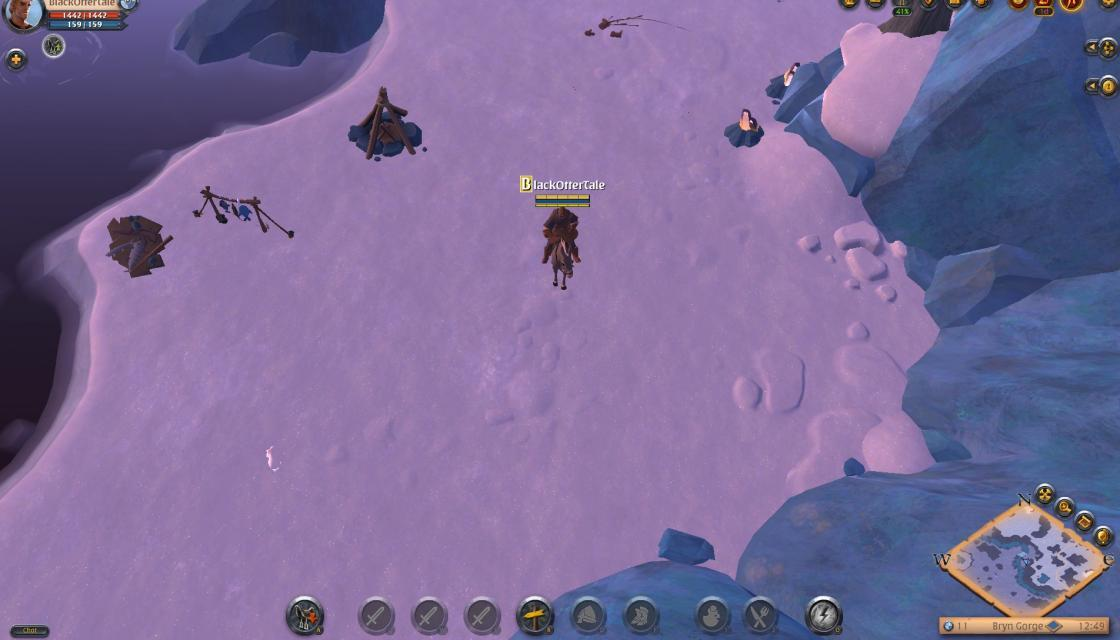copperore: (761, 60, 808, 104), (724, 108, 768, 150)
